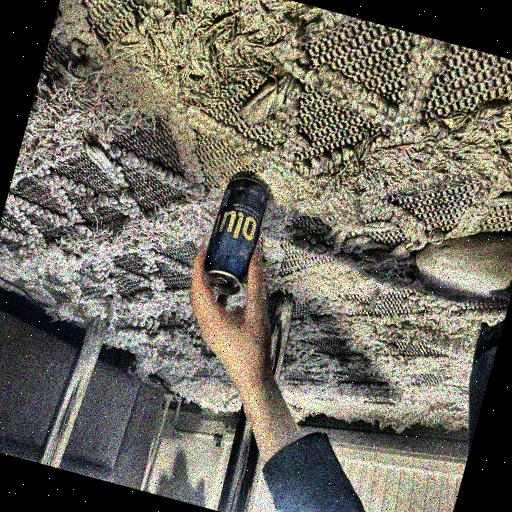koti: (191, 166, 276, 304)
